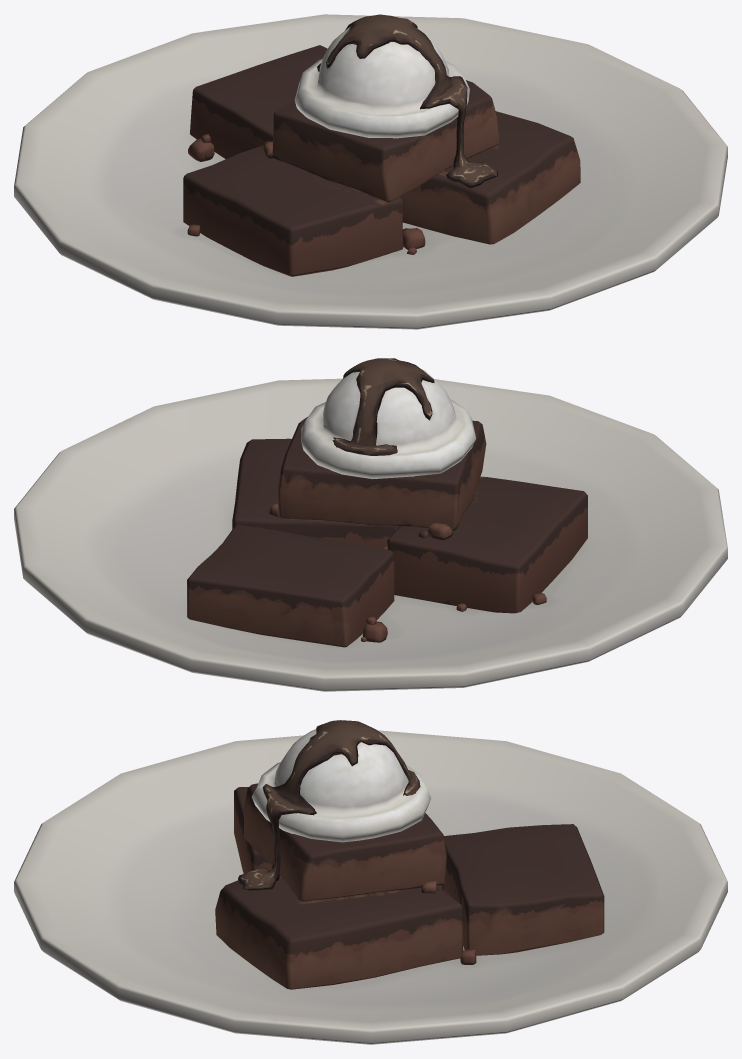
File: brownie-con-helado.glb
3 views of the same model, one above another, from view 1: azimuth 30°, elevation 25°; view 2: azimuth 150°, elevation 25°; view 3: azimuth 270°, elevation 25° (orthographic).
Parts seen in each view (by area): view 1: Plate, Brownie_3, Brownie_2, Brownie_1, polySurface1, Brownie4, Sauce; view 2: Plate, Brownie4, Brownie_3, Brownie_1, polySurface1, Brownie_2, Sauce; view 3: Plate, Brownie_2, Brownie4, Brownie_1, polySurface1, Sauce, Brownie_3.
Part boxes in pixels (box(x1,y1,x2,y2)): Plate: box(14, 14, 727, 329); Brownie_3: box(183, 145, 403, 276); Brownie_2: box(400, 111, 580, 244); Brownie_1: box(272, 80, 499, 202); polySurface1: box(294, 27, 469, 138); Brownie4: box(190, 45, 327, 159); Sauce: box(317, 14, 498, 188); Plate: box(14, 378, 727, 691); Brownie4: box(187, 524, 394, 647); Brownie_3: box(387, 476, 587, 613); Brownie_1: box(277, 417, 486, 531); polySurface1: box(301, 369, 476, 479); Brownie_2: box(232, 438, 399, 548); Sauce: box(332, 358, 434, 455); Plate: box(14, 730, 727, 1044); Brownie_2: box(215, 869, 463, 989); Brownie4: box(443, 824, 604, 955); Brownie_1: box(244, 783, 446, 902); polySurface1: box(251, 729, 431, 842); Sauce: box(238, 720, 420, 890); Brownie_3: box(234, 787, 272, 873).
Bounding box in the file's own units: 0.0177 × 0.00568 × 0.0177.
4 materials, 4 textured.
